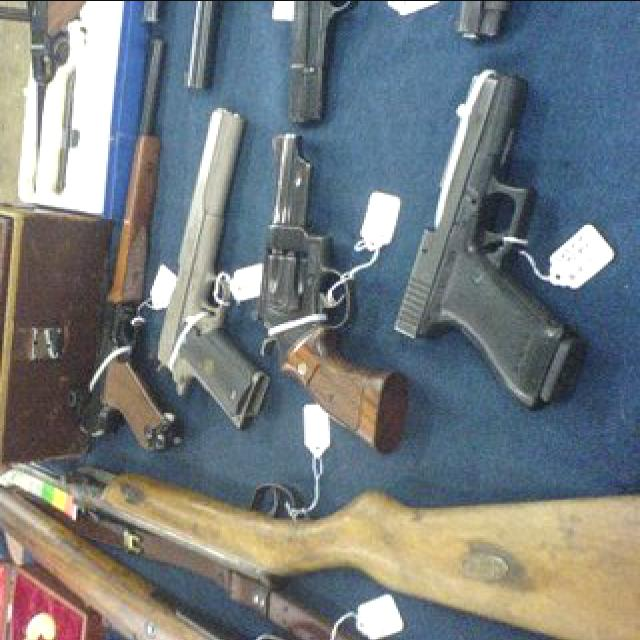handgun: (392, 62, 578, 426), (252, 129, 408, 456), (150, 103, 272, 444)
